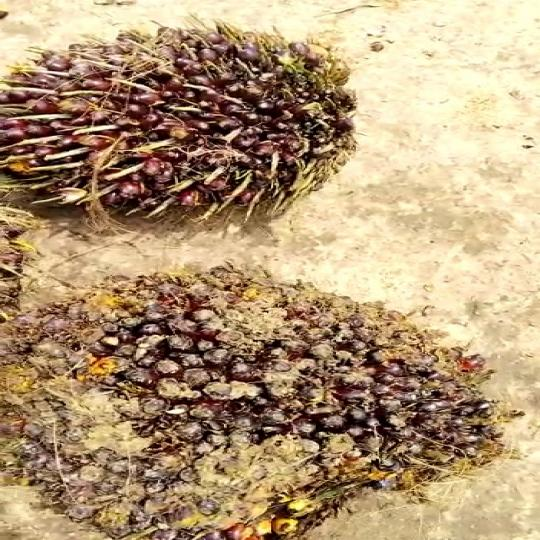kurang masak: (0, 269, 540, 532), (0, 15, 354, 226)
